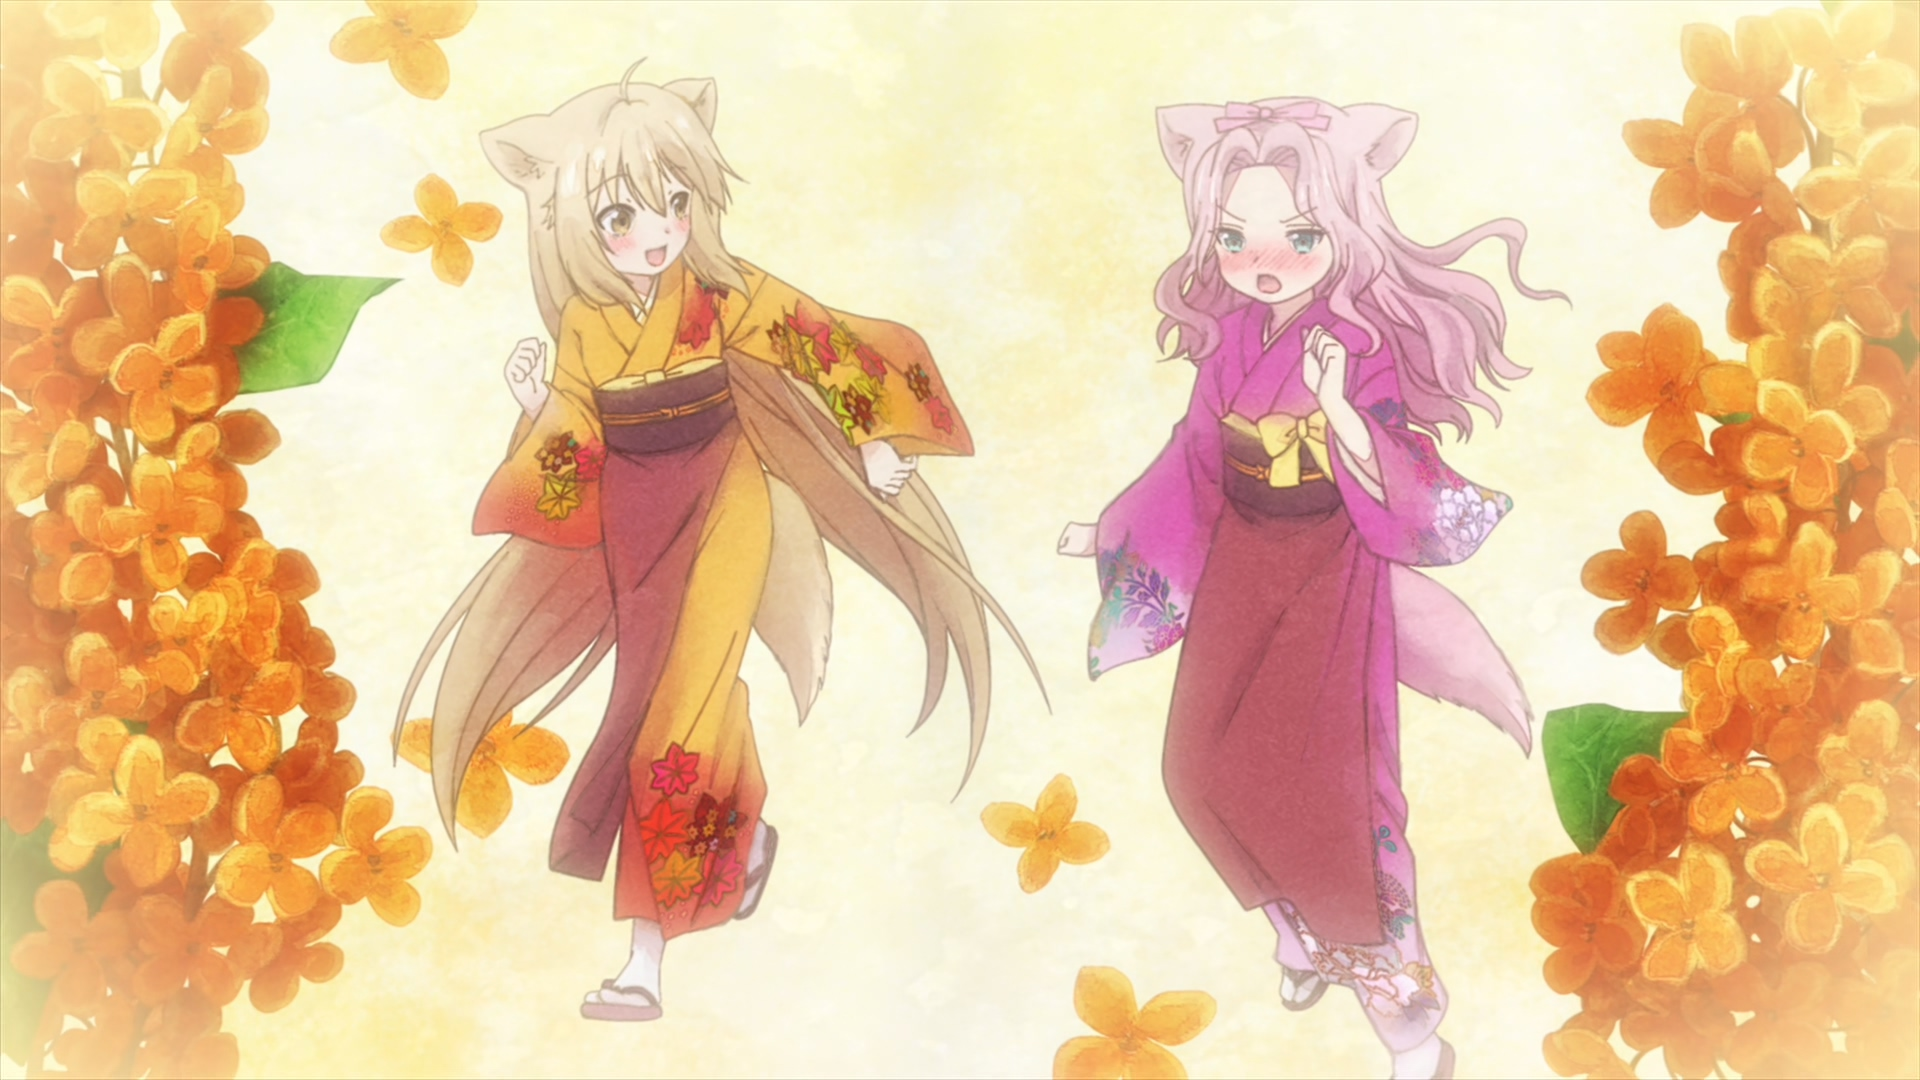柚: (392, 58, 1048, 1021)
莲: (1056, 98, 1573, 1080)
